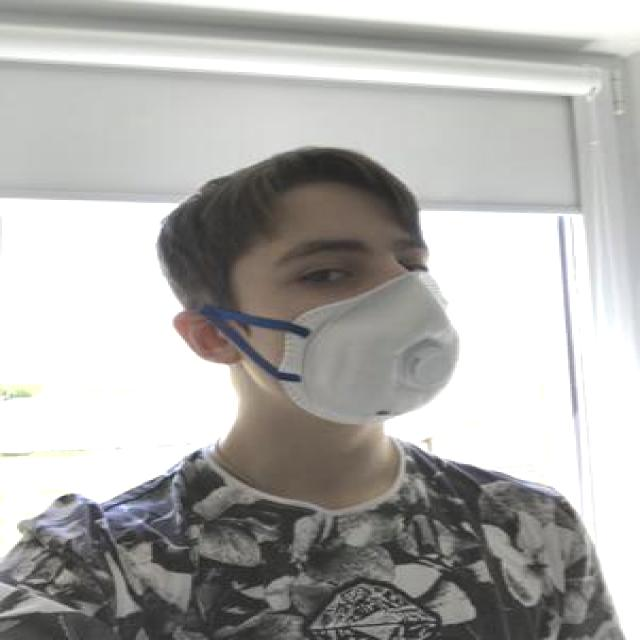face_mask: (260, 220, 460, 426)
head_nohelmet: (170, 137, 432, 230)
person: (10, 134, 640, 639)
